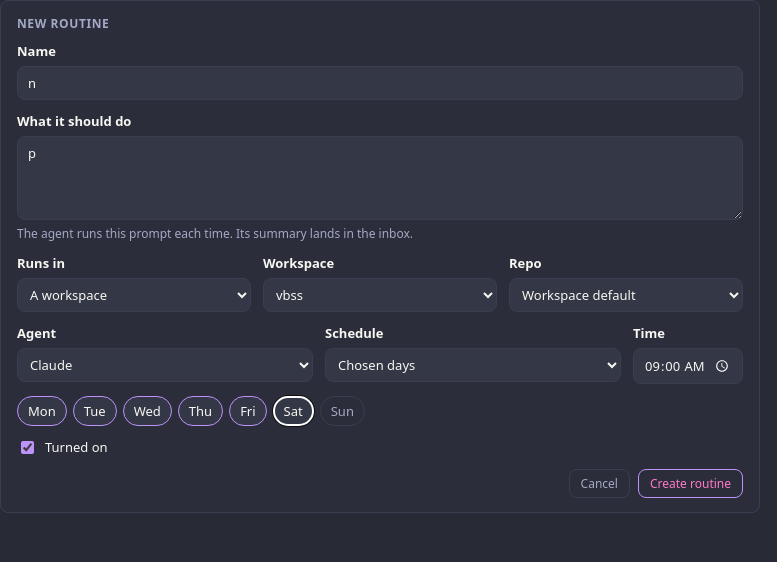
Scenario: chosen days toggle and an empty selection blocks the form
Earlier steps of the test are not shown.
Expected: the button "Sat" is pressed, [273,396,314,426]
What coordinates should you click on to do the following:
click the button "Mon"
I would click on:
 (42, 411)
Its box is [17,396,67,426].
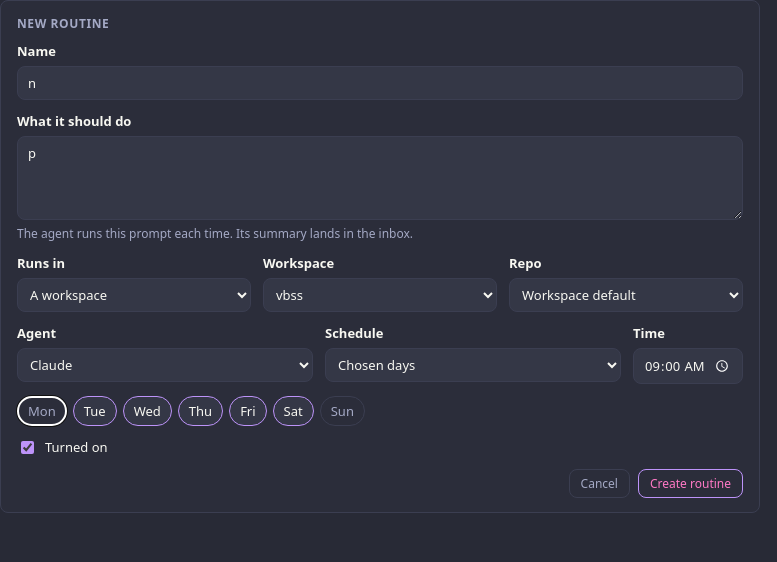
What coordinates should you click on to do the following:
click the button "Tue"
I would click on:
 (95, 411)
Its box is [73,396,117,426].
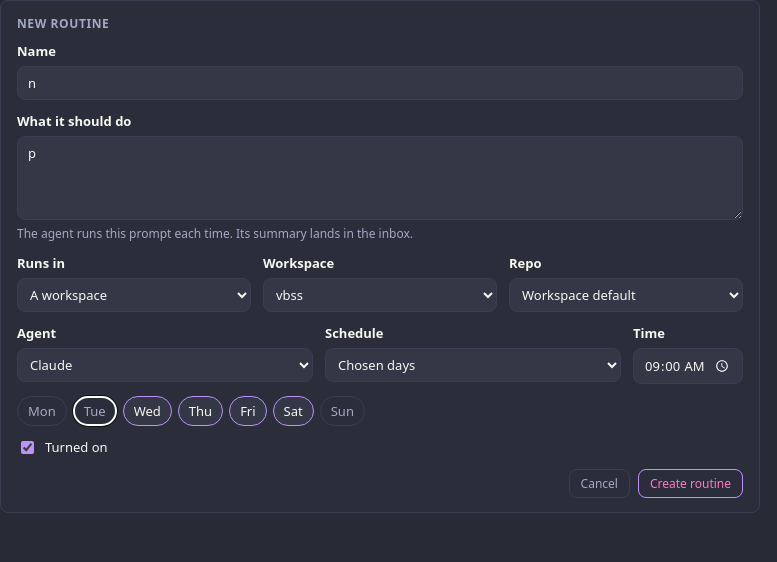
What coordinates should you click on to do the following:
click the button "Wed"
I would click on:
 (147, 411)
Its box is [123,396,172,426].
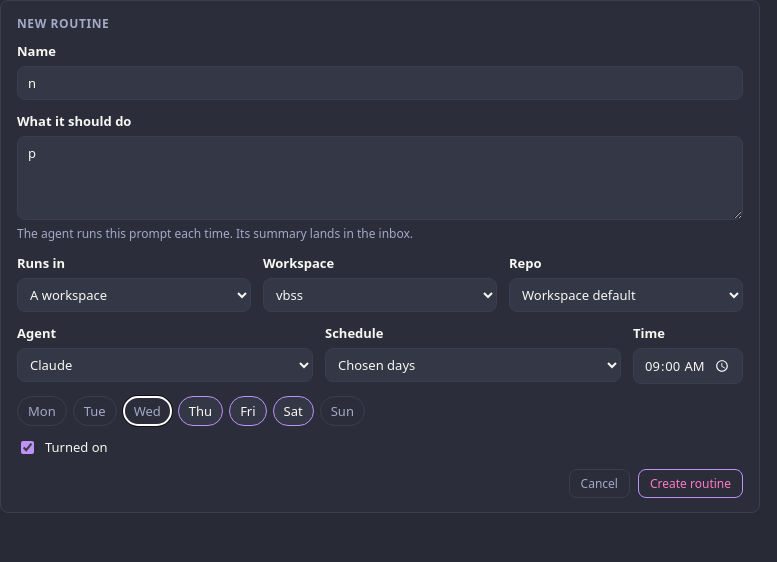
What coordinates should you click on to do the following:
click the button "Thu"
I would click on:
 (200, 411)
Its box is [178,396,223,426].
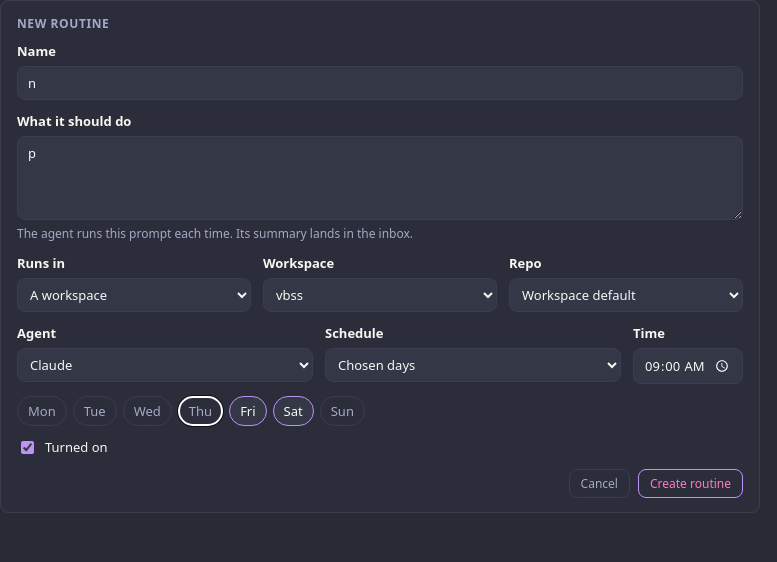
What coordinates should you click on to do the following:
click the button "Fri"
I would click on:
 (248, 411)
Its box is [229,396,267,426].
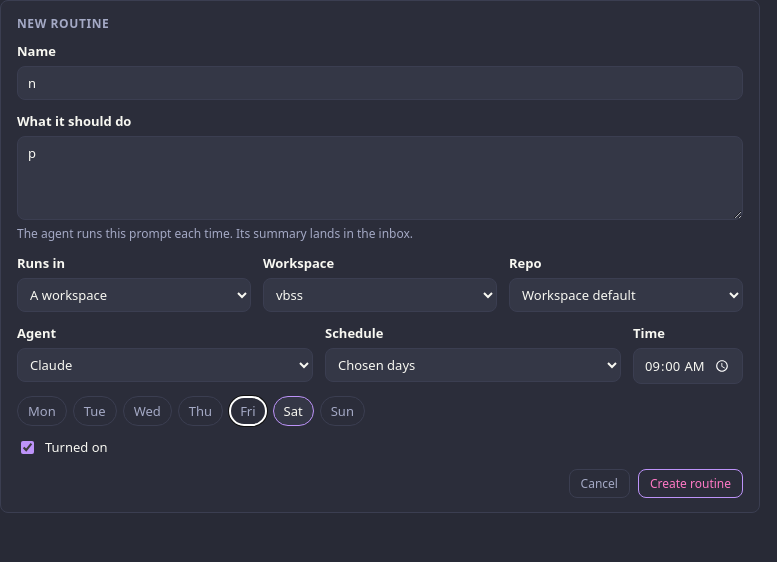
What coordinates should you click on to do the following:
click the button "Sat"
I would click on:
 (293, 411)
Its box is [273,396,314,426].
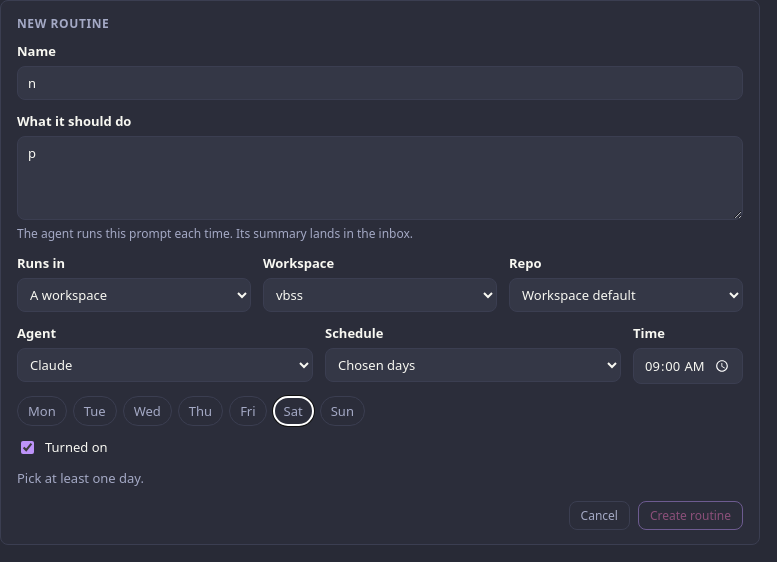
Expected: the text "Pick at least one day." is shown, [17,469,144,487]
Expected: the button "Create routine" is disabled, [638,501,743,530]
